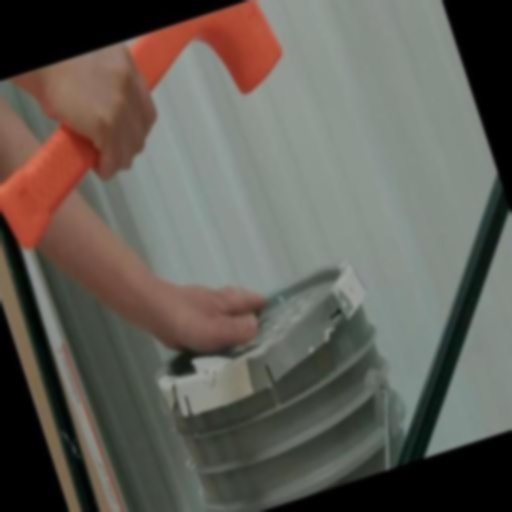mallet: (0, 0, 318, 257)
